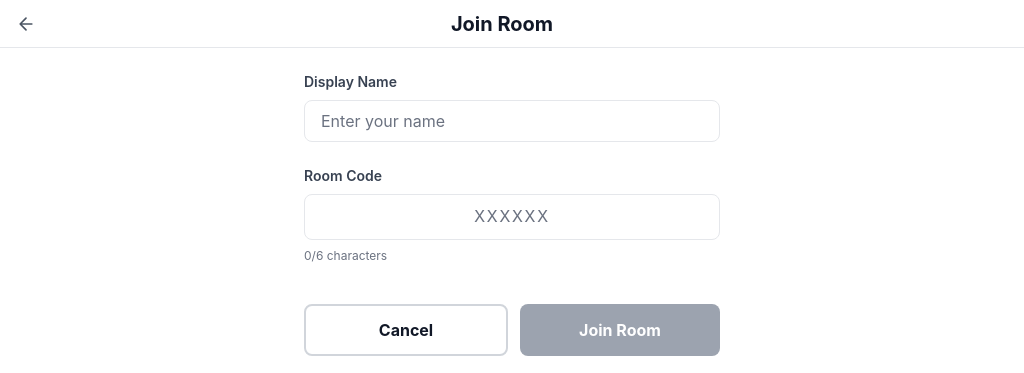
Test: JoinRoomForm › display name validation › enables submit button when both display name and room code are provided
The width and height of the screenshot is (1024, 373).
Type "Player One" into the field labelled "Display Name".
click(512, 121); type("Player One")  # box left=304, top=100, right=720, bottom=142
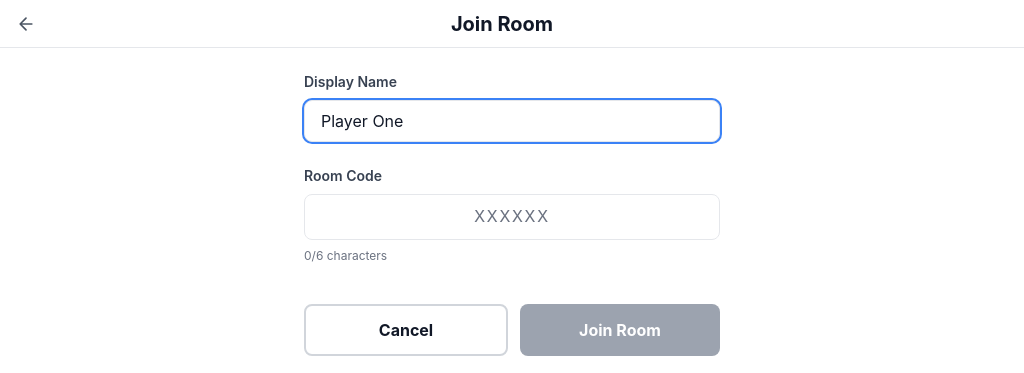
Type "ABC123" into the field labelled "Room Code".
click(512, 217); type("ABC123")  # box left=304, top=194, right=720, bottom=240
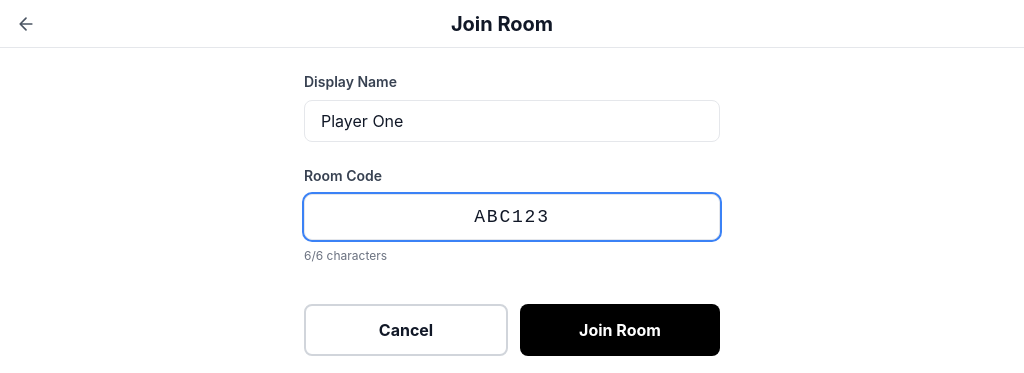
Check: the button "Join Room" is enabled, box left=520, top=304, right=720, bottom=356
